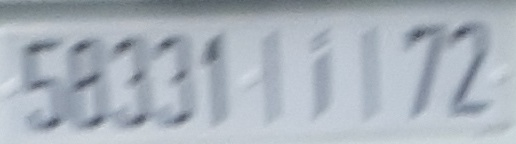1: (196, 32, 231, 128)
2: (448, 22, 495, 120)
3: (153, 34, 197, 129), (109, 35, 153, 126)
5: (22, 39, 68, 132)
7: (401, 22, 446, 123)
8: (66, 38, 108, 131)
a: (302, 23, 338, 125)
